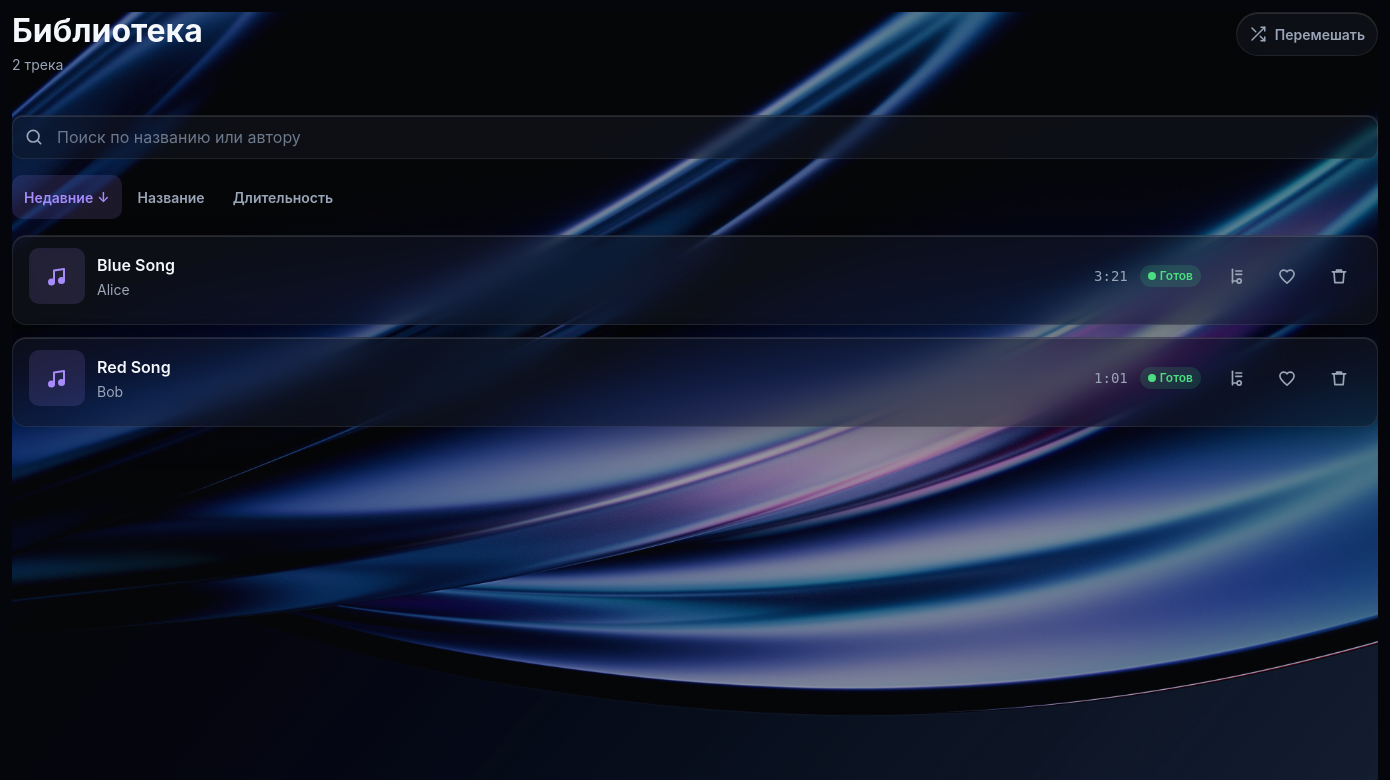
it: LibraryView › removes a track after 204 and clears it from the player
The width and height of the screenshot is (1390, 780).
Click the 1st button with class "track-row__action--delete" at coordinates (1339, 276), box [1317,254,1361,298]
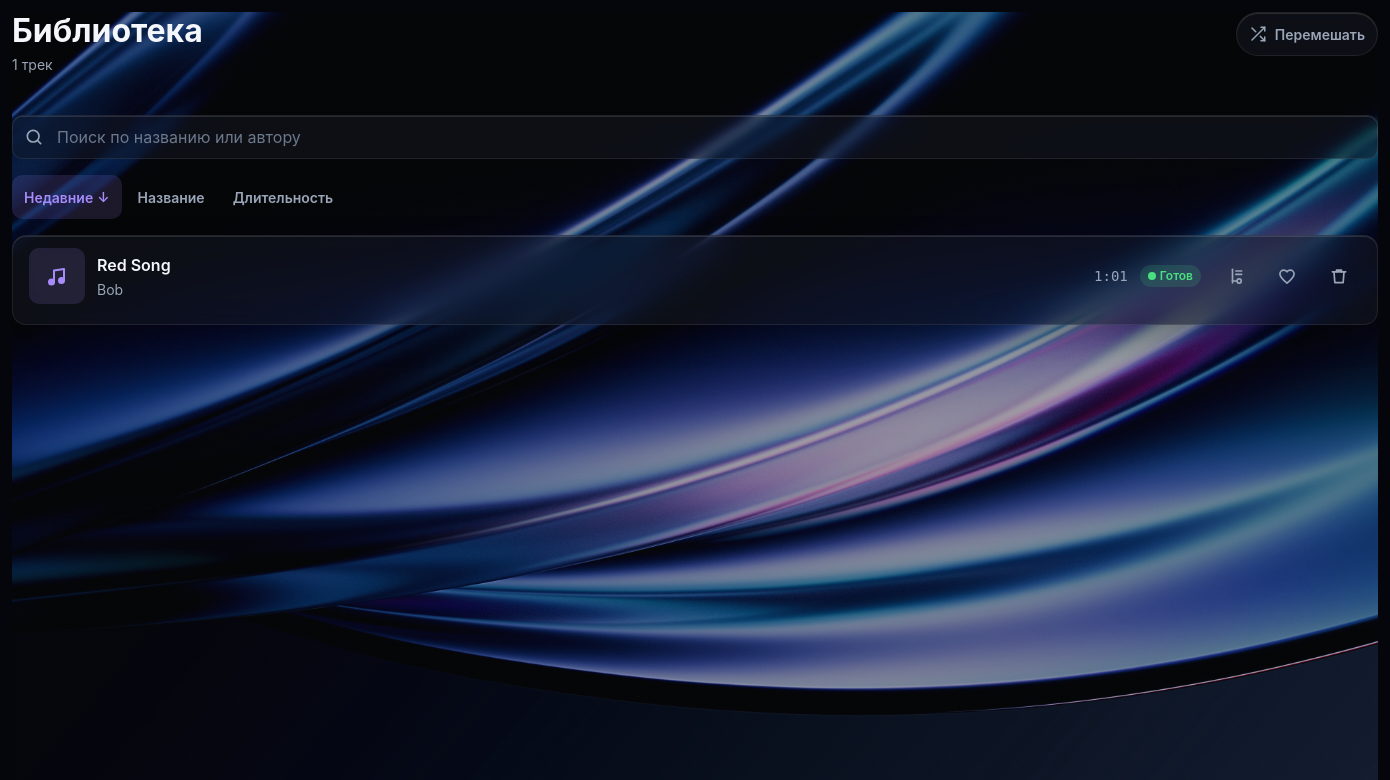
Expected: the number of list items with class "track-row" is 1, [12,235,1378,325]
Expected: the text with class "library-view__counter" reads "1 трек", [12,56,53,73]
